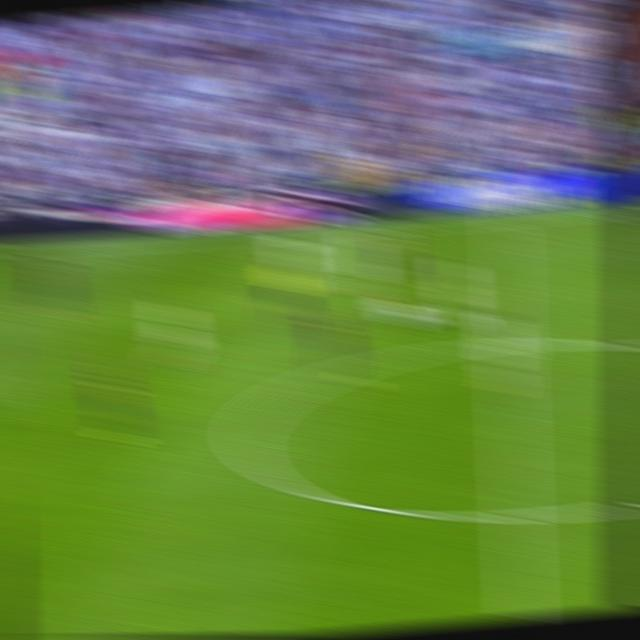halfcircle_bottom: (496, 494, 536, 536)
halfcircle_top: (492, 329, 526, 357)
midline_bottom_intersection: (497, 494, 536, 536)
midline_top_intersection: (490, 211, 520, 230)
